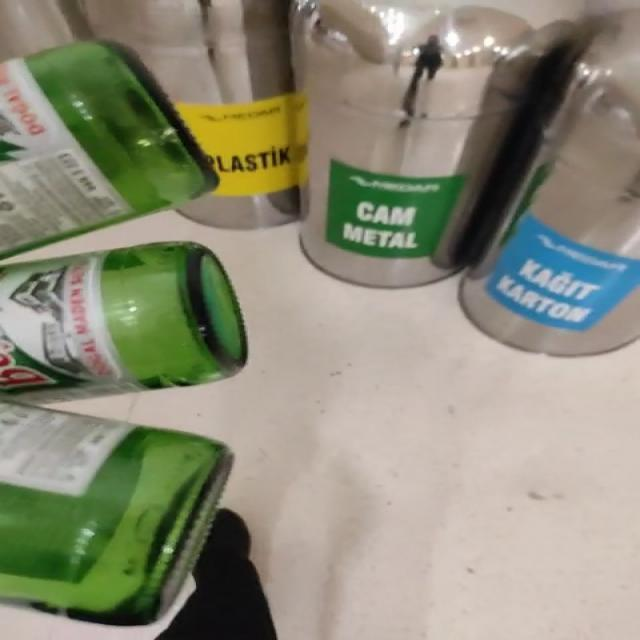Glass: (3, 404, 231, 626), (0, 41, 216, 256), (0, 242, 247, 403)
